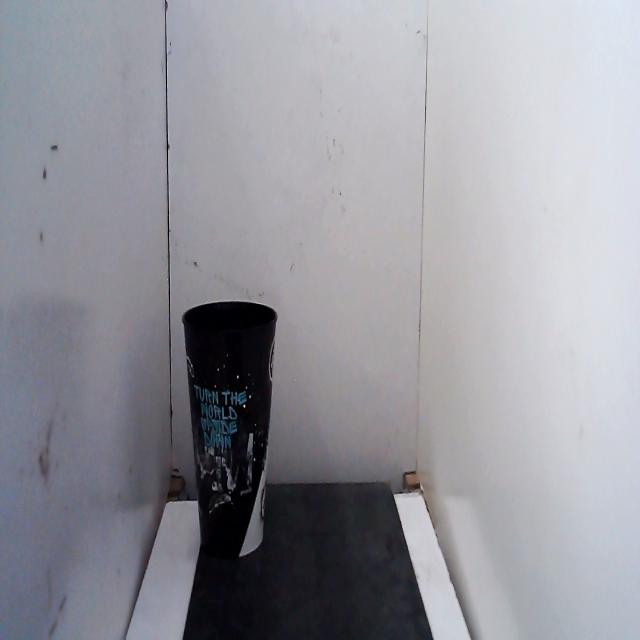plastico: (176, 289, 286, 580)
